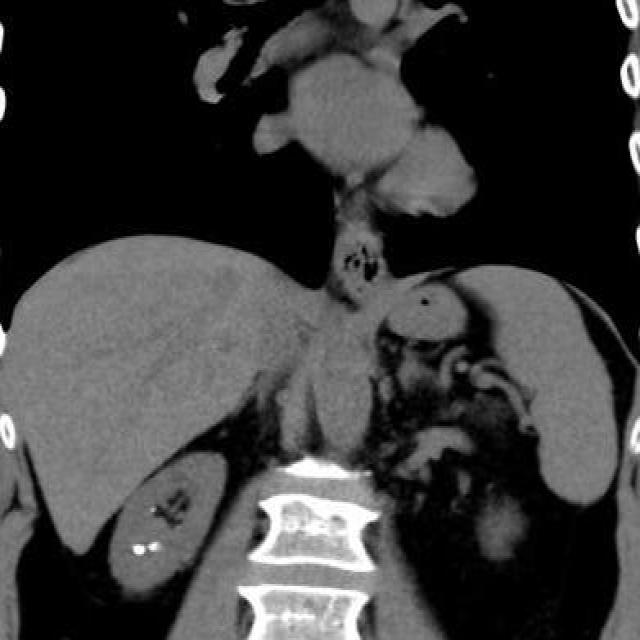Tas_Var: (129, 542, 146, 558), (147, 540, 162, 554), (149, 506, 157, 514), (174, 524, 182, 530)
